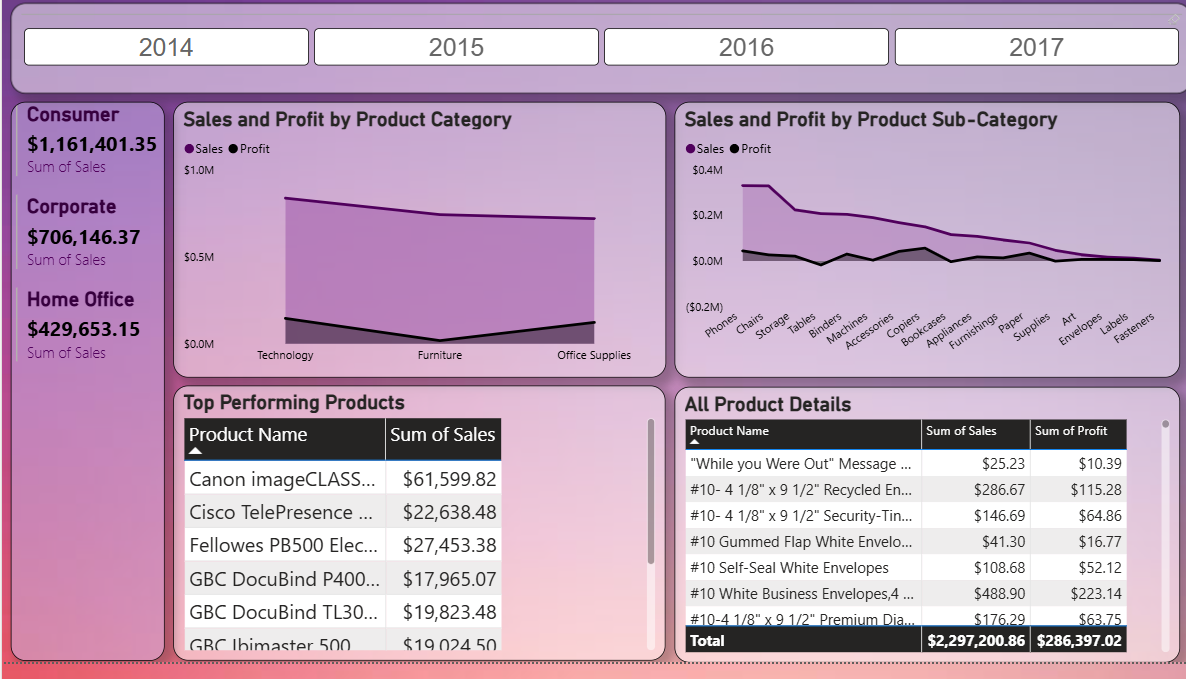

The dashboard page shown, as its layout file describes it:
{"tool":"powerbi","page":{"name":"Report 3 – Product Details","canvas":[1280,720],"ordinal":2},"visuals":[{"type":"ChicletSlicer1448559807354","fields":{"Category":["Orders.year"]},"box":[9.3,11,1270.7,97.5],"z":0},{"type":"areaChart","title":"Sales and Profit by Product Category","fields":{"Y":["Sum(Orders.Sales)","Sum(Orders.Profit)"],"Category":["Orders.Category"]},"box":[184.1,116.8,530.2,296.7],"z":1000},{"type":"areaChart","title":"Sales and Profit by Product Sub-Category","fields":{"Category":["Orders.Sub-Category"],"Y":["Sum(Orders.Sales)","Sum(Orders.Profit)"]},"box":[723.9,116.8,544,296.7],"z":2000},{"type":"tableEx","title":"Top Performing Products","fields":{"Values":["Orders.Product Name","Sum(Orders.Sales)"]},"box":[184.3,422.6,529.7,296.4],"z":3000},{"type":"tableEx","title":"All Product Details","fields":{"Values":["Orders.Product Name","Sum(Orders.Sales)","Sum(Orders.Profit)"]},"box":[723.9,423.1,544,296.7],"z":4000},{"type":"multiRowCard","fields":{"Values":["Sum(Orders.Sales)","Orders.Segment"]},"box":[9.4,117.1,165.6,601.8],"z":6000}]}

Visuals, with their boxes in screenshot pixels (x1, y1, x2, y2), scaled from the page's 1280x720 canvas onto the 1186x679 screenshot:
ChicletSlicer1448559807354 - Orders.year: (x1=9, y1=10, x2=1185, y2=102)
"Sales and Profit by Product Category" areaChart: (x1=171, y1=110, x2=662, y2=390)
"Sales and Profit by Product Sub-Category" areaChart: (x1=671, y1=110, x2=1175, y2=390)
"Top Performing Products" tableEx: (x1=171, y1=399, x2=662, y2=678)
"All Product Details" tableEx: (x1=671, y1=399, x2=1175, y2=678)
multiRowCard - Sum(Orders.Sales) x Orders.Segment: (x1=9, y1=110, x2=162, y2=678)
